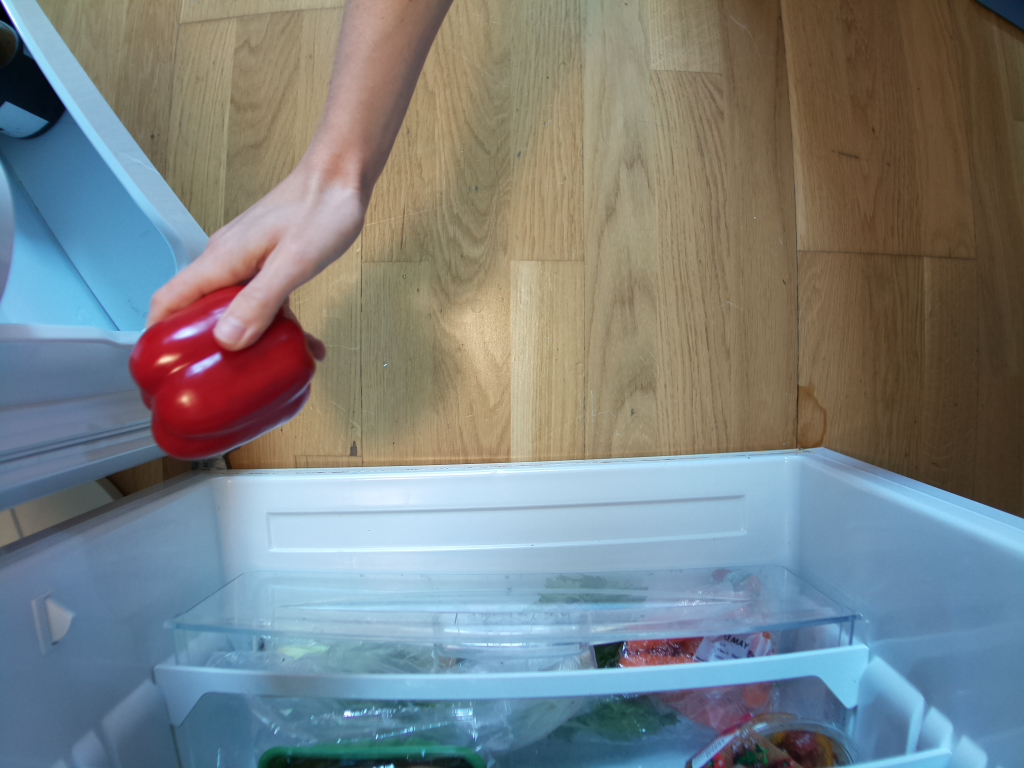pepper: (127, 279, 325, 458)
